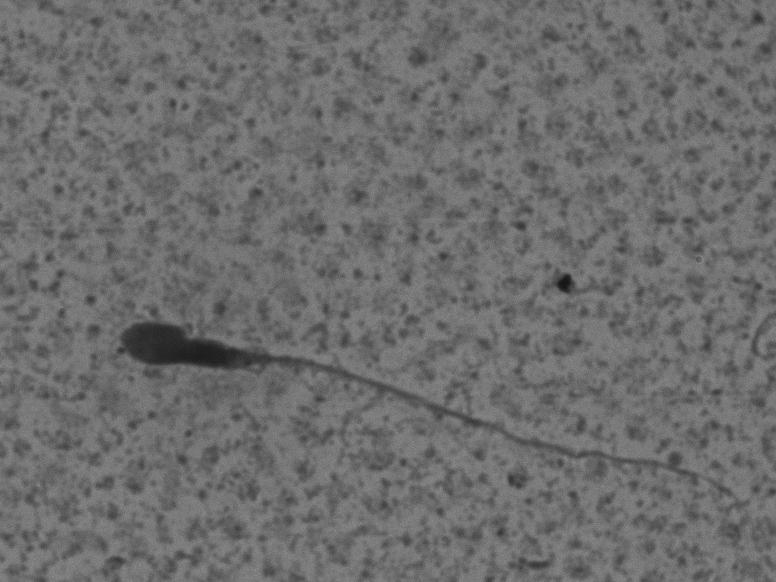Abnormal: (78, 311, 763, 516)
